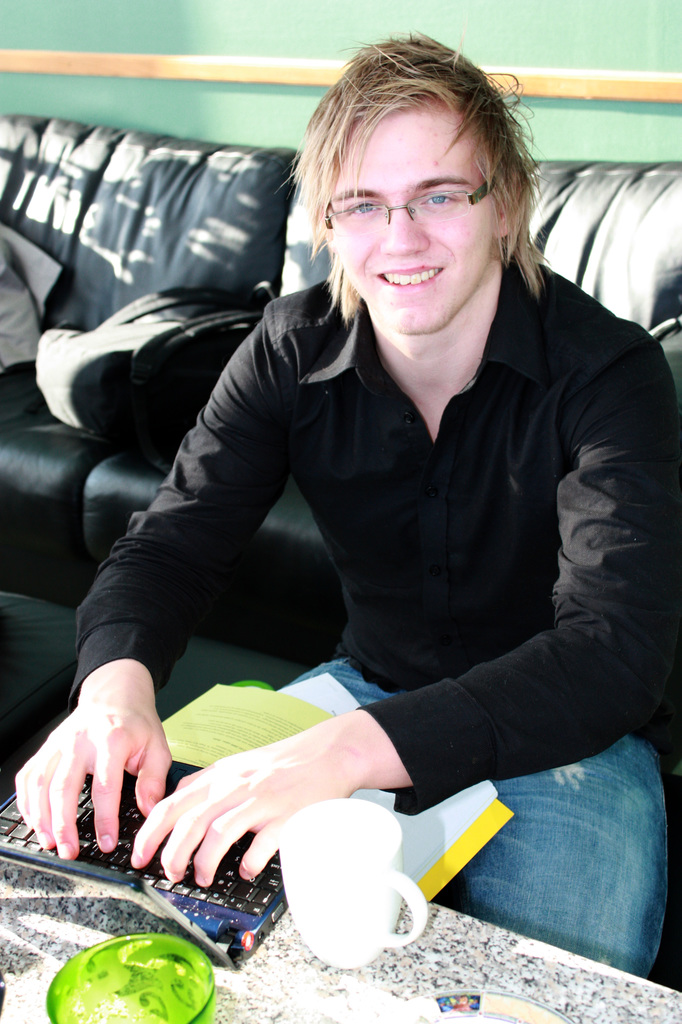Human_hand: (125, 726, 364, 890), (38, 670, 177, 872)
